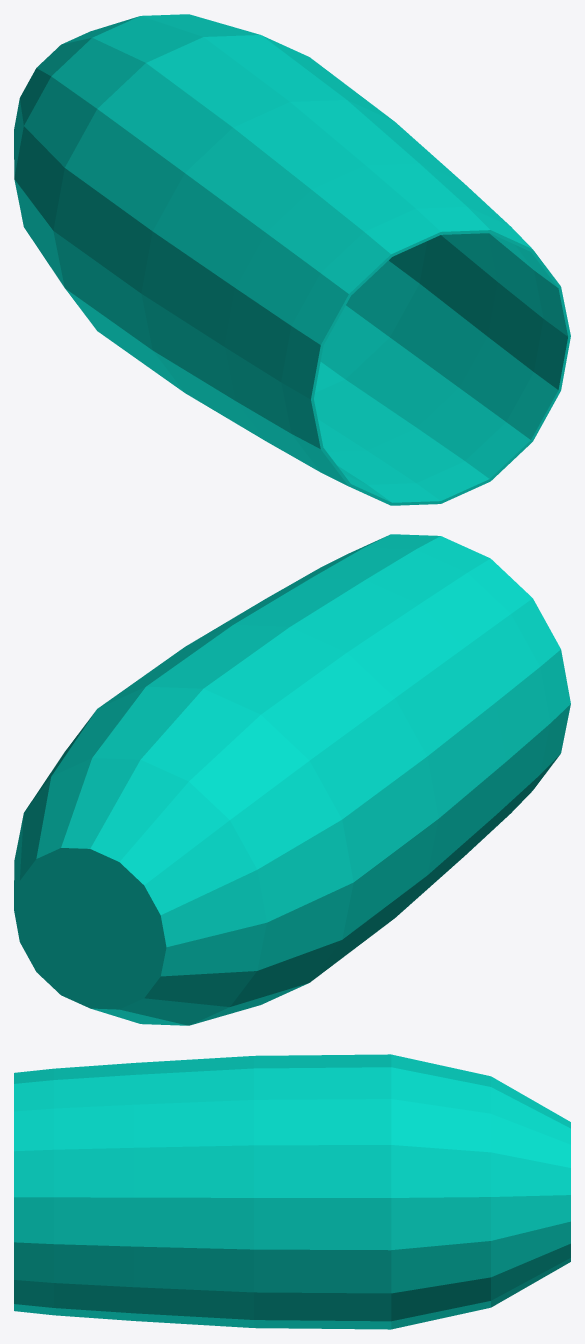
Rendered from glass_geometry_0.obj.
3 renders of one model, top to bottom at view 1: azimuth 30°, elevation 25°; view 2: azimuth 150°, elevation 25°; view 3: azimuth 270°, elevation 25°, orthographic. The views are drawn at different scales.
Size of the model in its own units: 0.0784 by 0.0784 by 0.1586.
